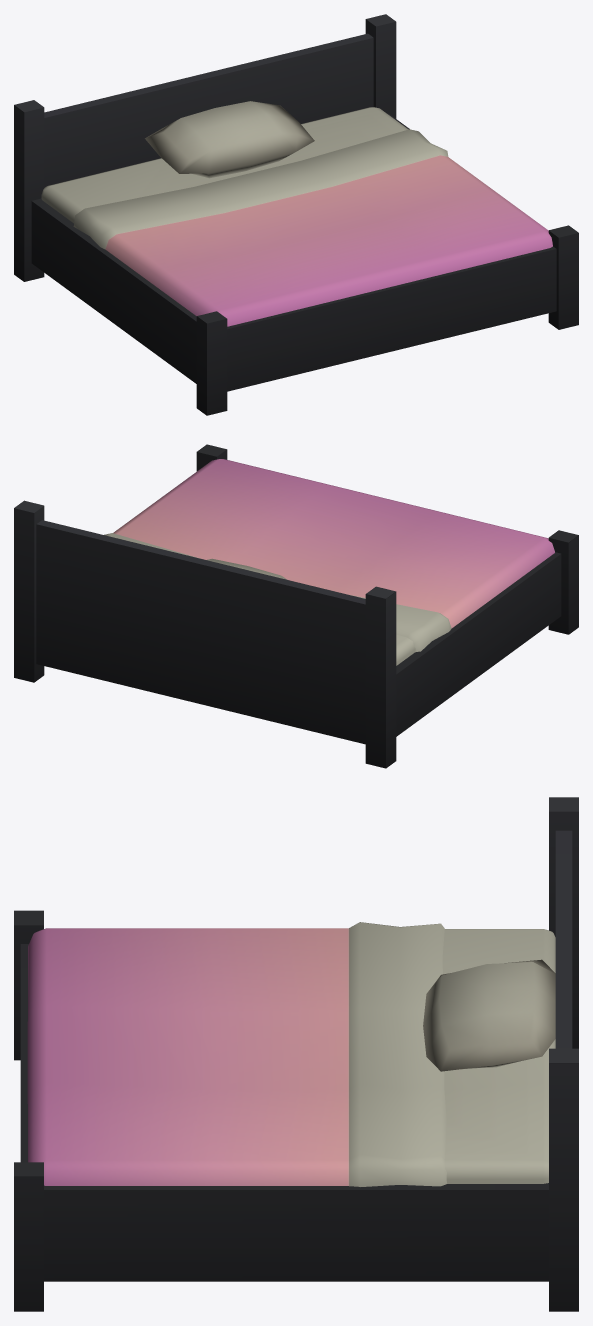
The model's file is Bedwithsheet.fbx.
The picture shows the model from 3 angles, top to bottom: view 1: azimuth 30°, elevation 25°; view 2: azimuth 150°, elevation 25°; view 3: azimuth 270°, elevation 25°; orthographic projection. The views are drawn at different scales.
Visible parts, largest first — view 1: Bed with sheet; view 2: Bed with sheet; view 3: Bed with sheet.
Boxes of the visible parts, bbox=[...] form: Bed with sheet: bbox=[14, 14, 578, 415]; Bed with sheet: bbox=[14, 444, 578, 768]; Bed with sheet: bbox=[14, 797, 578, 1311].
Size of the model in its own units: 3.34 by 1.46 by 3.
1 material, 1 textured.
